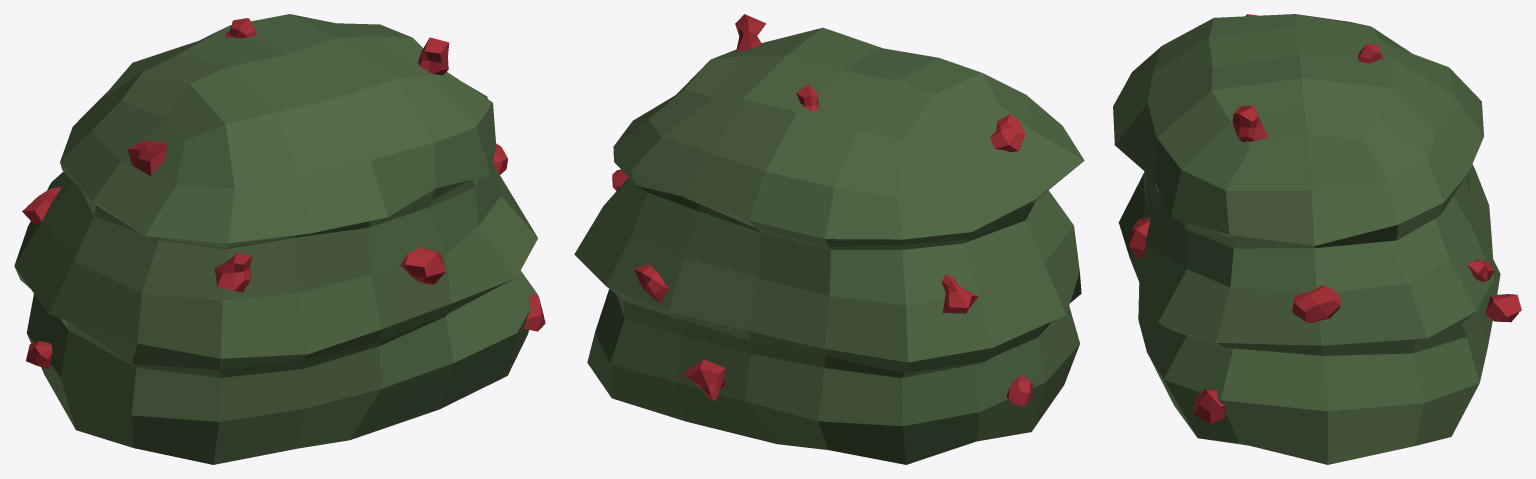
Rendered from BushBerries_4.gltf.
3 renders of one model, left to right at view 1: azimuth 30°, elevation 25°; view 2: azimuth 150°, elevation 25°; view 3: azimuth 270°, elevation 25°, orthographic. The views are drawn at different scales.
Visible parts, largest first — view 1: BushBerries_4; view 2: BushBerries_4; view 3: BushBerries_4.
Part boxes in pixels (box(x1,y1,x2,y2)): BushBerries_4: box(14, 14, 545, 464); BushBerries_4: box(574, 14, 1084, 464); BushBerries_4: box(1113, 14, 1521, 464).
Size of the model in its own units: 1.72 by 1.28 by 1.39.
